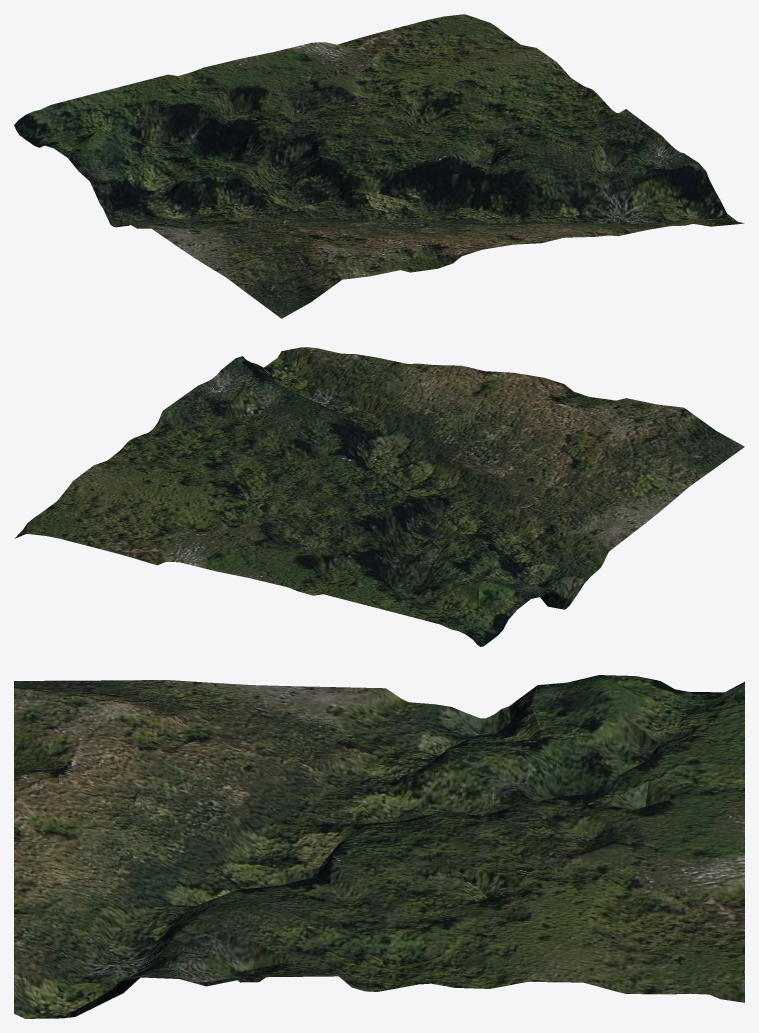
Rendered from map_15_8178_13781.dae.
3 renders of one model, top to bottom at view 1: azimuth 30°, elevation 25°; view 2: azimuth 150°, elevation 25°; view 3: azimuth 270°, elevation 25°, orthographic. The views are drawn at different scales.
Parts seen in each view (by area): view 1: Ter0; view 2: Ter0; view 3: Ter0.
Boxes of the visible parts, left/top/right/bottom form: Ter0: left=14, top=14, right=744, bottom=318; Ter0: left=14, top=347, right=744, bottom=646; Ter0: left=14, top=675, right=744, bottom=1018.
Size of the model in its own units: 63.88 by 63.88 by 7.9.
Materials: 3 (3 with a texture image).
